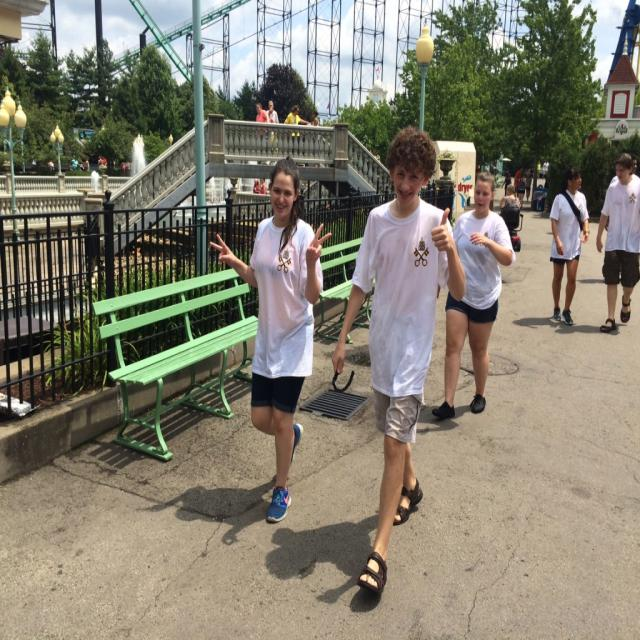body: (331, 122, 467, 596), (208, 153, 336, 525), (431, 169, 518, 422), (136, 474, 287, 548), (262, 514, 378, 608), (595, 152, 639, 336), (547, 164, 591, 328), (604, 152, 640, 232), (283, 104, 311, 154), (264, 99, 280, 155), (306, 109, 320, 167), (499, 183, 522, 209), (255, 102, 269, 139), (69, 156, 89, 173), (512, 166, 522, 199), (518, 172, 526, 208), (502, 171, 512, 197), (252, 176, 260, 207), (96, 154, 109, 171), (541, 158, 550, 180), (259, 177, 267, 194), (524, 166, 534, 176), (537, 159, 541, 180), (476, 159, 481, 173), (126, 159, 130, 172), (119, 161, 125, 169)
